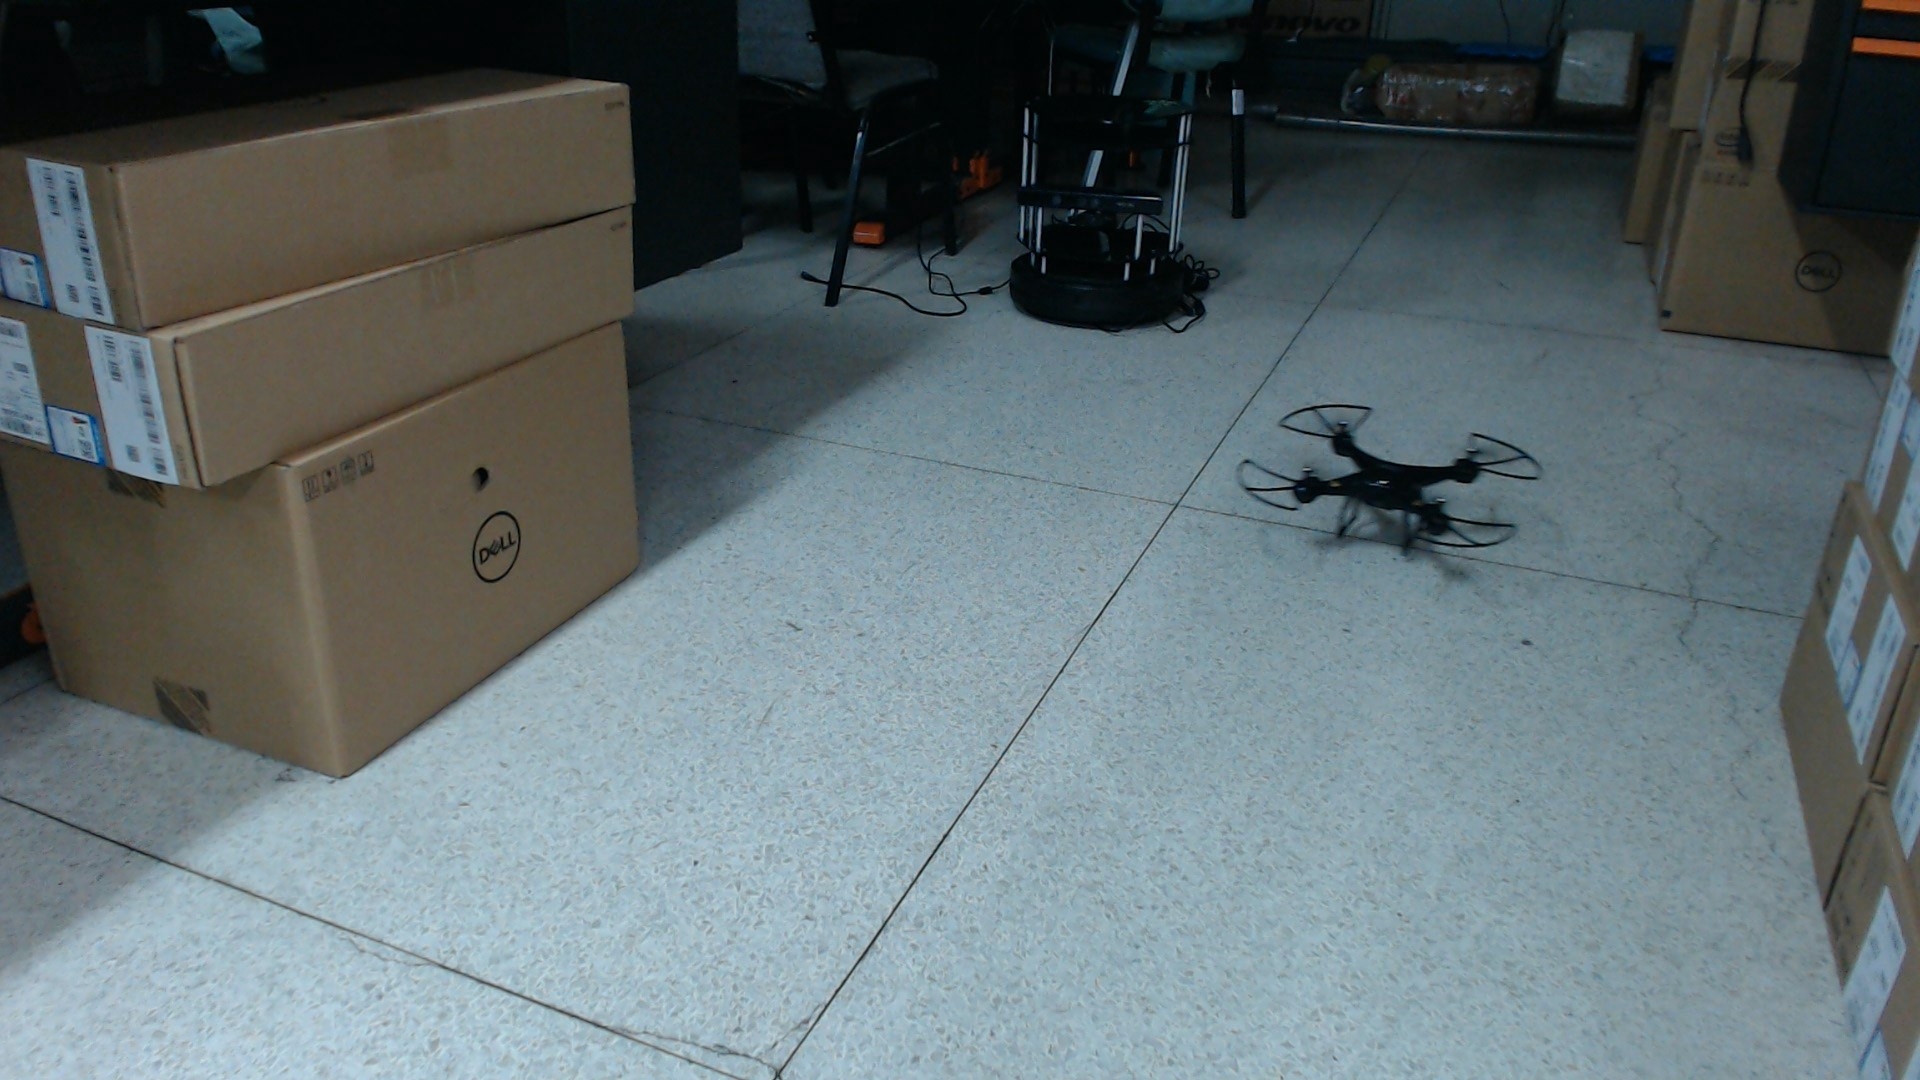drone: (1236, 401, 1551, 570)
